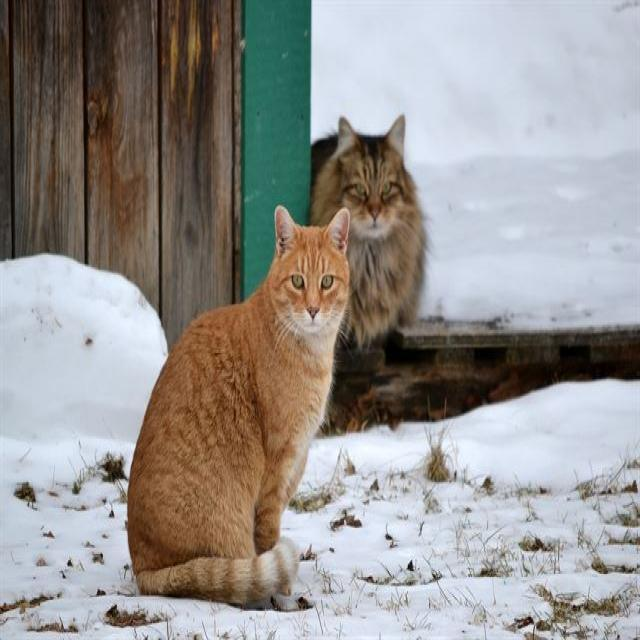cat: (78, 183, 374, 623), (264, 71, 470, 371)
